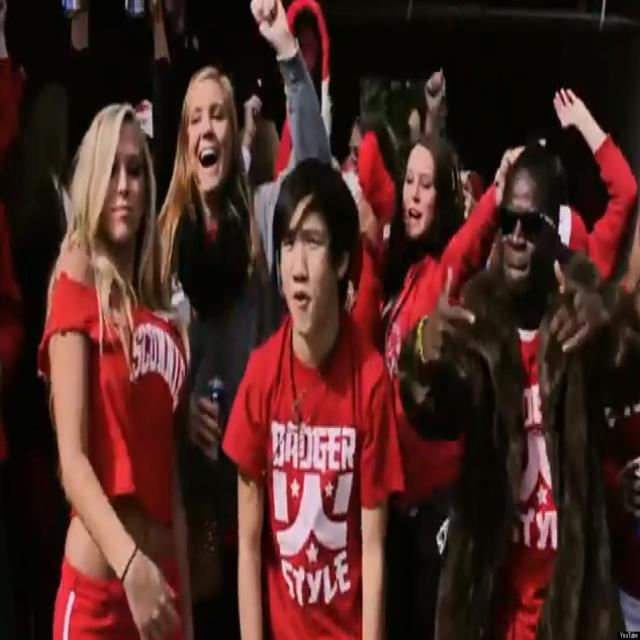body: (0, 1, 638, 191), (396, 128, 633, 639), (426, 77, 640, 639), (151, 0, 335, 640), (209, 149, 409, 639), (34, 98, 201, 639), (146, 62, 280, 640), (380, 132, 488, 640), (0, 193, 69, 640), (601, 233, 639, 637)
